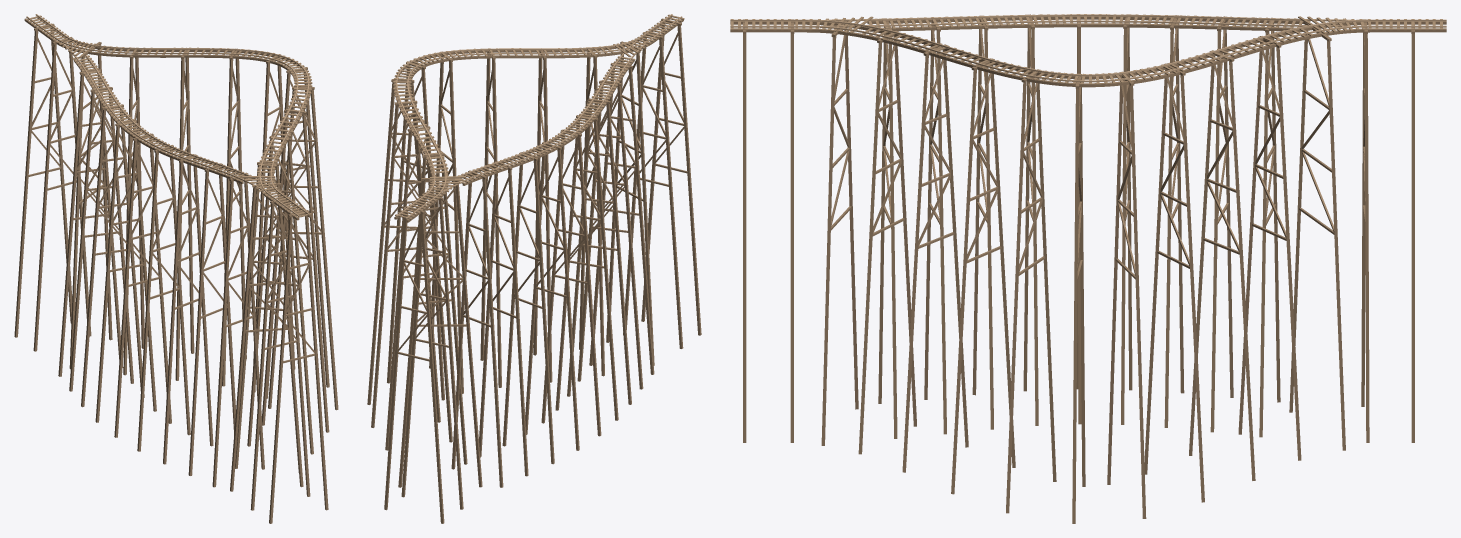
The model's file is MinecartMayhemRailJunctionR.glb.
The picture shows the model from 3 angles, left to right: view 1: azimuth 30°, elevation 25°; view 2: azimuth 150°, elevation 25°; view 3: azimuth 270°, elevation 25°; orthographic projection. The views are drawn at different scales.
Visible parts, largest first — view 1: Trestle, Ties, Rails; view 2: Trestle, Ties, Rails; view 3: Trestle, Rails, Ties.
Part boxes in pixels (x1,y1,x2,y2): Trestle: (14, 18, 338, 523); Ties: (25, 15, 312, 218); Rails: (26, 14, 309, 216); Trestle: (367, 17, 701, 523); Ties: (393, 14, 684, 219); Rails: (396, 14, 682, 219); Trestle: (730, 14, 1446, 523); Rails: (730, 14, 1446, 82); Ties: (730, 14, 1442, 84).
Size of the model in its own units: 67.51 by 98.78 by 150.
